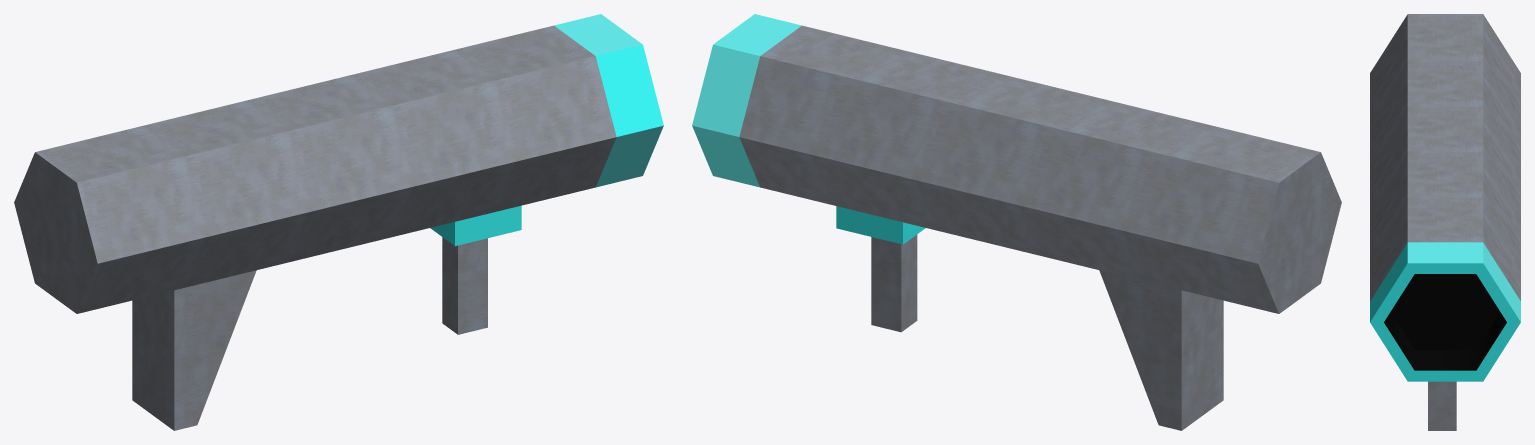
File: bazooka.dae
3 views of the same model, side by side, from view 1: azimuth 30°, elevation 25°; view 2: azimuth 150°, elevation 25°; view 3: azimuth 270°, elevation 25° (orthographic). The views are drawn at different scales.
Parts seen in each view (by area): view 1: SketchUp (×5); view 2: SketchUp (×4); view 3: SketchUp (×6).
Part boxes in pixels (bbox=[...]): SketchUp (×5): bbox=[14, 14, 663, 430]; SketchUp (×4): bbox=[692, 14, 1341, 430]; SketchUp (×6): bbox=[1370, 14, 1520, 430].
Bounding box in the file's own units: 295 × 75.59 × 136.
Materials: 4 (1 with a texture image).
